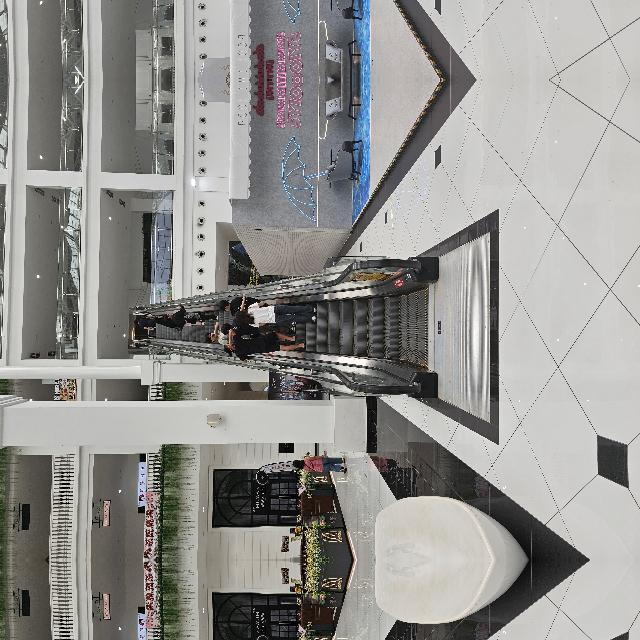obstacle: (0, 453, 64, 609), (0, 511, 64, 640), (377, 399, 421, 441), (438, 404, 479, 442)
person: (196, 302, 232, 386), (232, 315, 258, 397), (223, 300, 241, 376), (234, 245, 256, 299), (86, 373, 104, 427), (229, 233, 245, 284), (229, 214, 243, 236)
stair: (163, 351, 305, 509), (163, 611, 305, 640)
